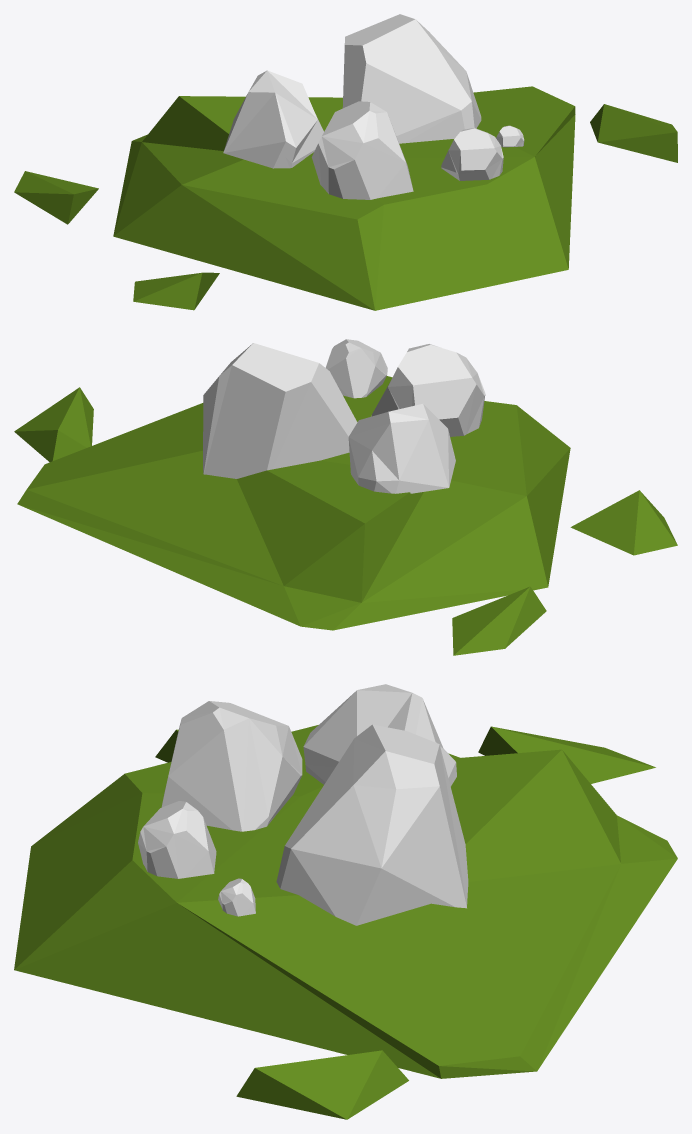
File: small_moss_01a.fbx
3 views of the same model, one above another, from view 1: azimuth 30°, elevation 25°; view 2: azimuth 150°, elevation 25°; view 3: azimuth 270°, elevation 25° (orthographic). The views are drawn at different scales.
Visible parts, largest first — view 1: small_moss_01; view 2: small_moss_01; view 3: small_moss_01.
Boxes of the visible parts, x1=… form: small_moss_01: x1=14, y1=14, x2=677, y2=310; small_moss_01: x1=14, y1=339, x2=677, y2=655; small_moss_01: x1=14, y1=684, x2=677, y2=1119.
Bounding box in the file's own units: 1.54 × 0.3863 × 1.11.
